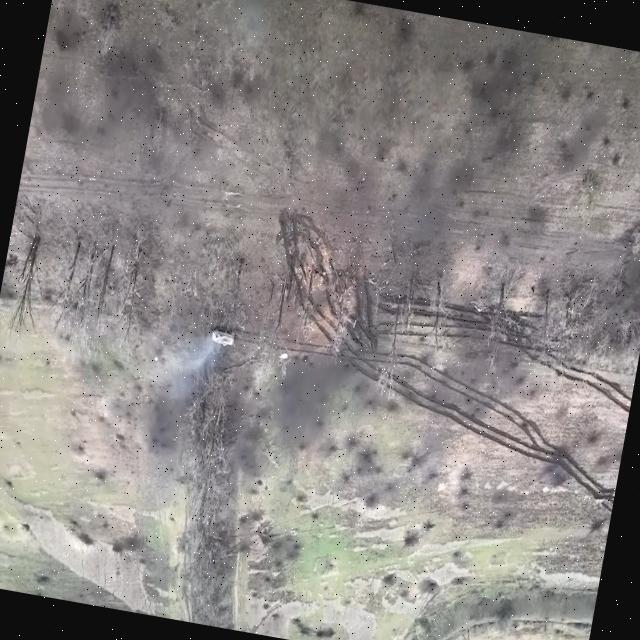AIFV: (210, 325, 238, 349)
